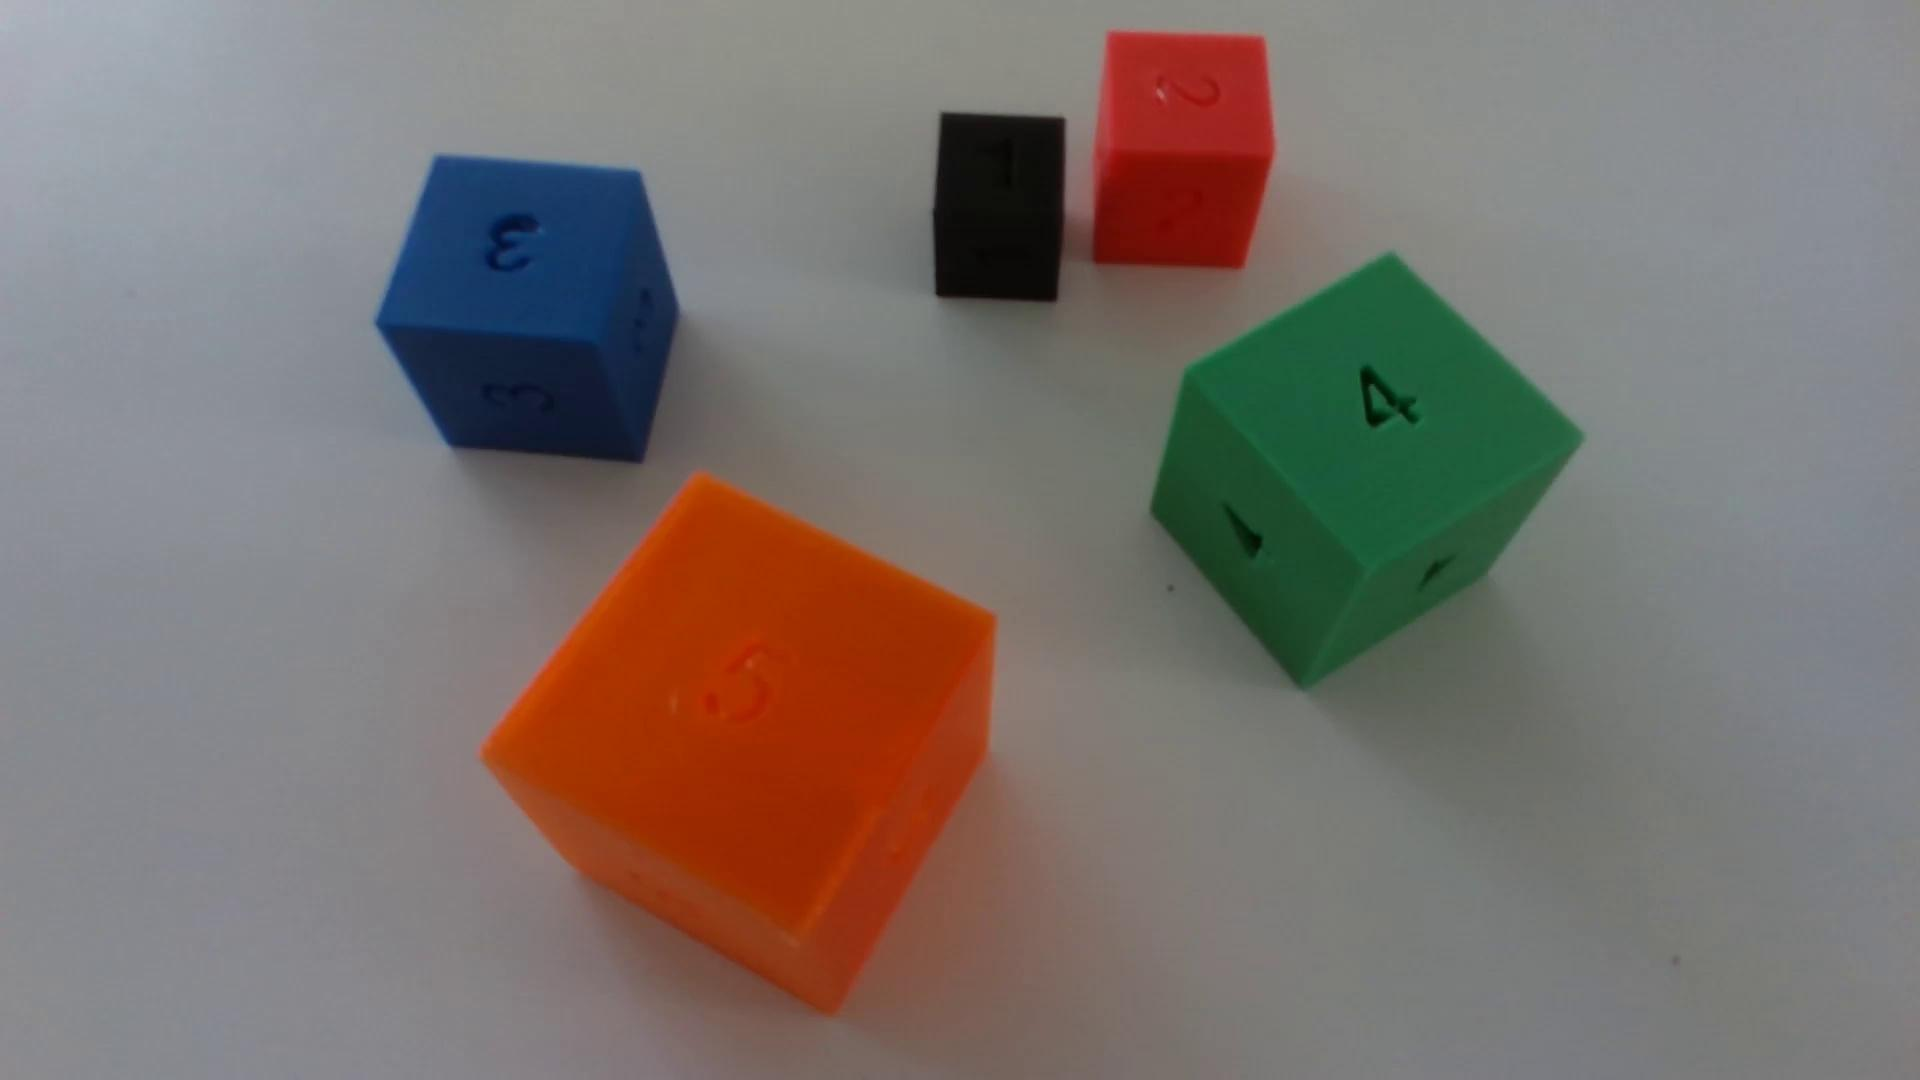black: (932, 113, 1065, 303)
blue: (376, 156, 679, 463)
green: (1151, 256, 1582, 687)
orange: (483, 476, 996, 1011)
red: (1092, 32, 1275, 270)
